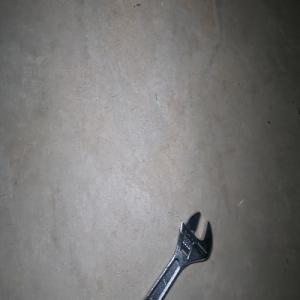Wrench: (143, 211, 212, 300)
